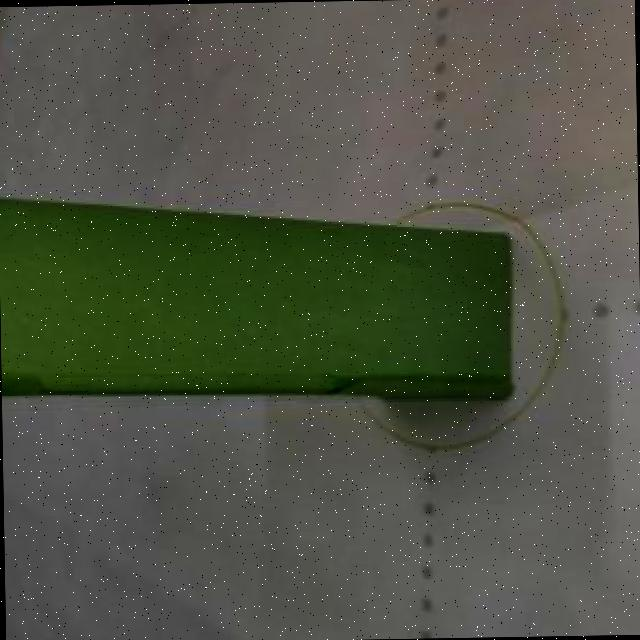greenbox: (0, 193, 511, 399)
